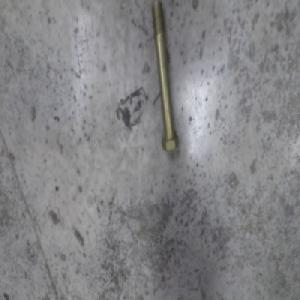Bolt: (151, 7, 179, 154)
